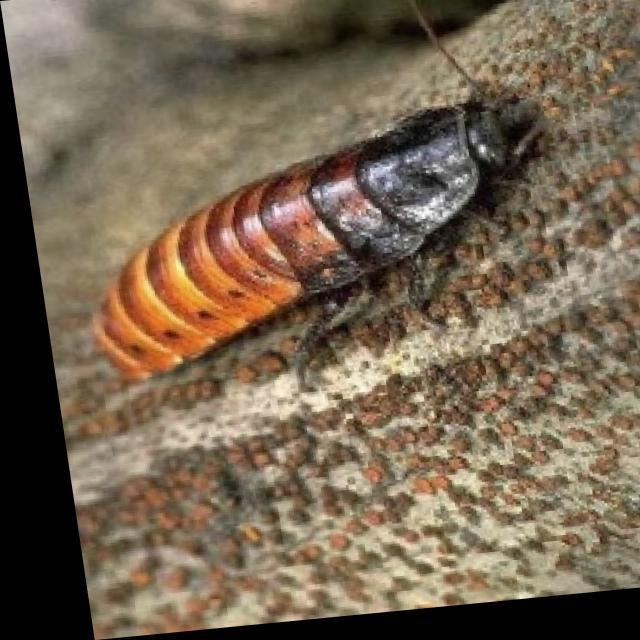cockroach: (82, 76, 563, 403)
